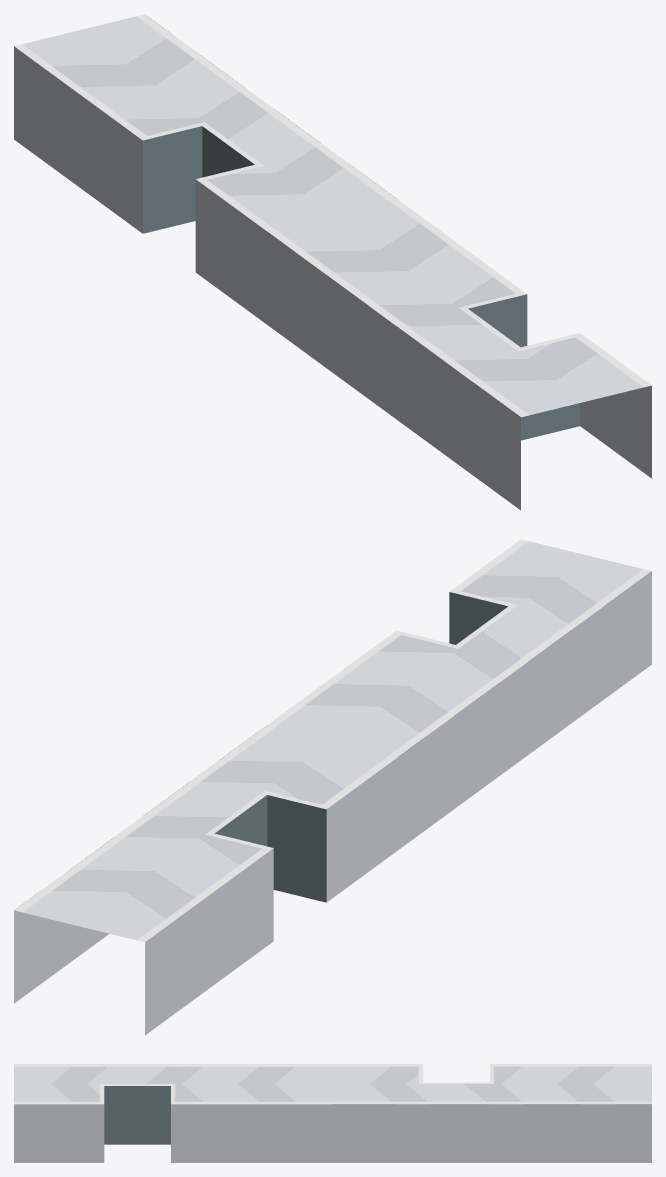
File: Path Holes.fbx
3 renders of one model, top to bottom at view 1: azimuth 30°, elevation 25°; view 2: azimuth 150°, elevation 25°; view 3: azimuth 270°, elevation 25°, orthographic. The views are drawn at different scales.
Parts seen in each view (by area): view 1: Path_Left, Path_right; view 2: Path_right, Path_Left; view 3: Path_right, Path_Left.
Boxes of the visible parts, box(x1,y1,x2,y2) form: Path_Left: box(267, 200, 651, 510); Path_right: box(14, 14, 397, 324); Path_right: box(14, 725, 398, 1035); Path_Left: box(268, 539, 651, 849); Path_right: box(333, 1064, 651, 1162); Path_Left: box(14, 1064, 332, 1162).
Bounding box in the file's own units: 2724 × 1856 × 18283.
Materials: 1 (1 with a texture image).
